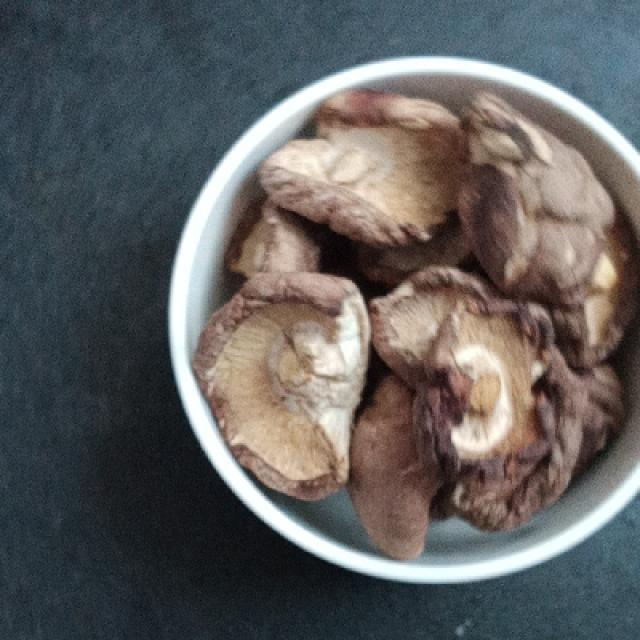Lentinus edodes: (194, 268, 370, 501), (427, 296, 582, 530), (265, 86, 470, 246), (459, 88, 618, 294)
